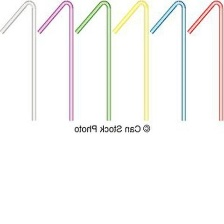drinking_straw: (110, 0, 155, 123), (0, 0, 41, 123), (186, 0, 224, 123)
